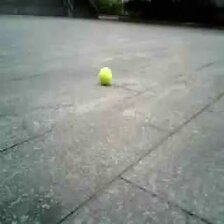tennis: (99, 68, 112, 83)
